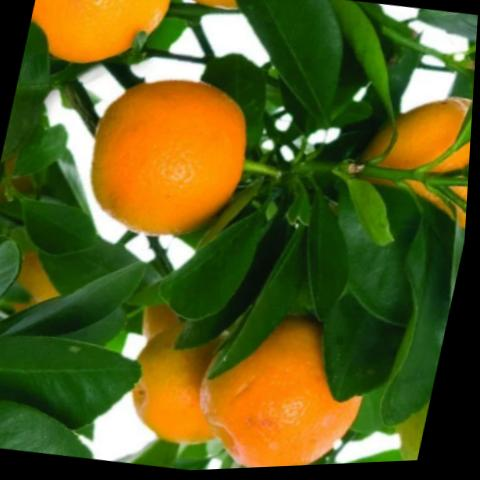Healthy Citrus: (361, 204, 470, 467), (210, 0, 358, 127), (0, 242, 154, 358), (0, 323, 153, 430), (157, 200, 278, 333), (0, 384, 118, 465), (296, 194, 369, 324), (0, 24, 50, 173), (15, 198, 107, 260)
